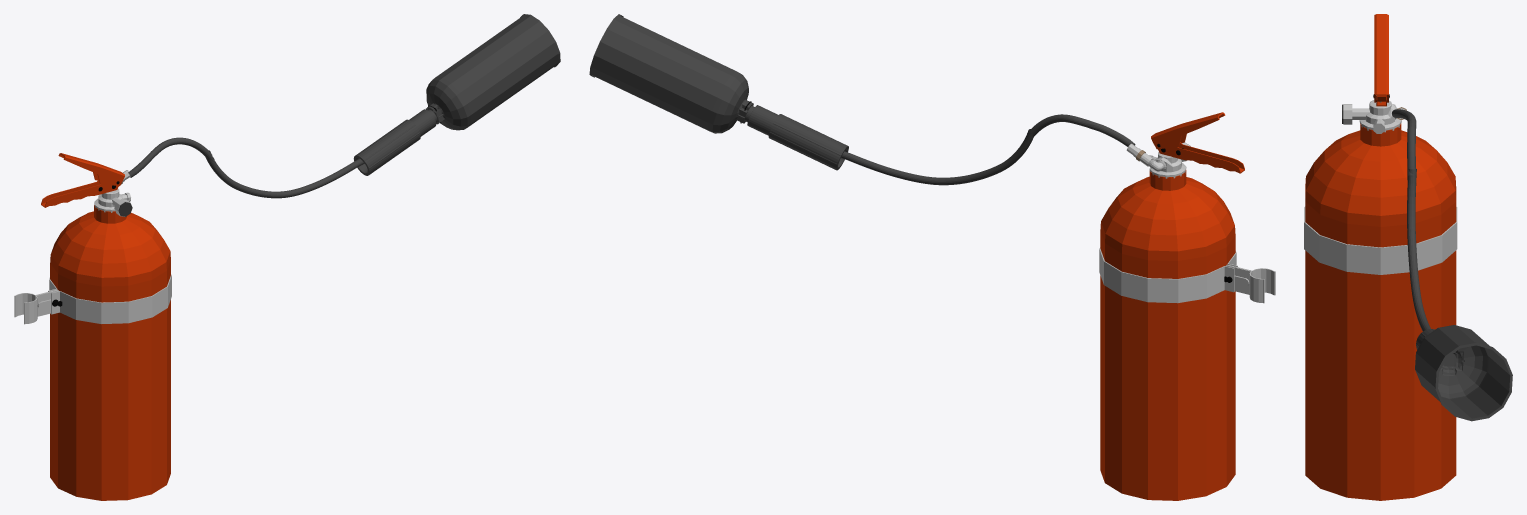
The picture shows the model from 3 angles, left to right: view 1: azimuth 30°, elevation 25°; view 2: azimuth 150°, elevation 25°; view 3: azimuth 270°, elevation 25°; orthographic projection. The views are drawn at different scales.
Parts seen in each view (by area): view 1: Base_01.001, Base_04, Base_04.002, Base_02; view 2: Base_01.001, Base_04, Base_04.002, Base_02; view 3: Base_01.001, Base_04, Base_04.002, Base_02.
Boxes of the visible parts, <box> form: Base_01.001: <box>14,153,171,500</box>; Base_04: <box>426,14,560,130</box>; Base_04.002: <box>206,119,420,198</box>; Base_02: <box>128,137,214,177</box>; Base_01.001: <box>1099,112,1275,500</box>; Base_04: <box>589,14,753,133</box>; Base_04.002: <box>768,114,1033,185</box>; Base_02: <box>1028,114,1135,146</box>; Base_01.001: <box>1304,14,1457,500</box>; Base_04: <box>1415,325,1512,421</box>; Base_04.002: <box>1407,169,1434,349</box>; Base_02: <box>1392,109,1416,182</box>.
Bounding box in the file's own units: 840 × 471 × 210.
